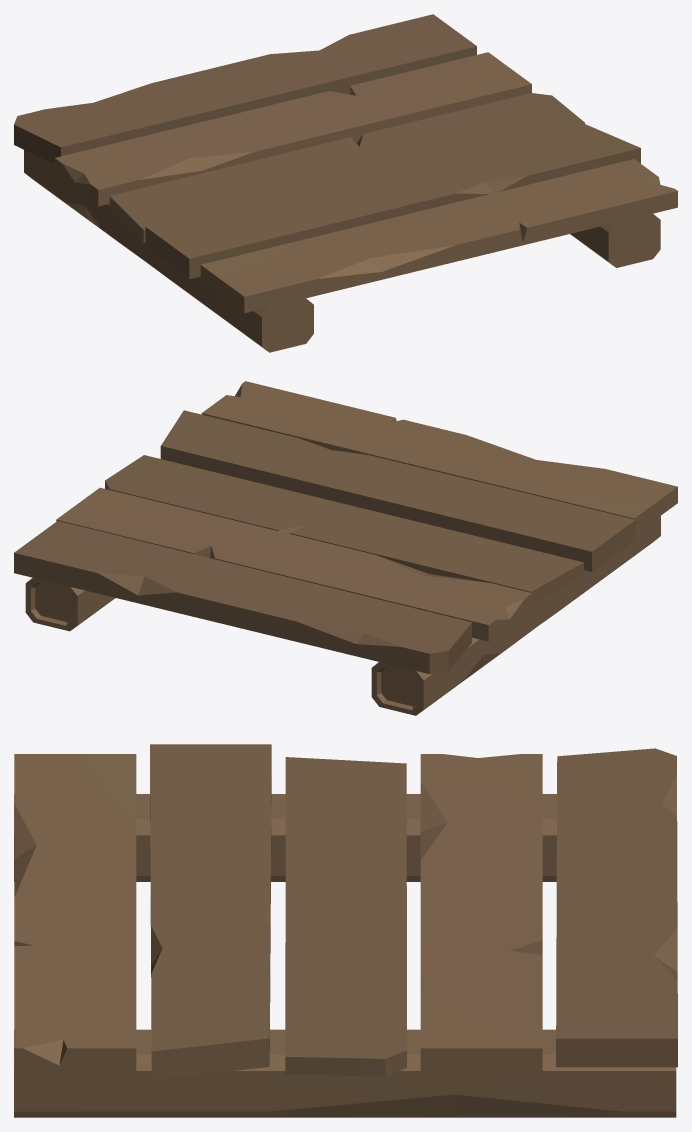
Rendered from Platform.fbx.
The picture shows the model from 3 angles, top to bottom: view 1: azimuth 30°, elevation 25°; view 2: azimuth 150°, elevation 25°; view 3: azimuth 270°, elevation 25°; orthographic projection. The views are drawn at different scales.
Parts seen in each view (by area): view 1: Platform; view 2: Platform; view 3: Platform.
Part boxes in pixels (bbox=[...]): Platform: bbox=[14, 14, 677, 352]; Platform: bbox=[14, 381, 677, 715]; Platform: bbox=[14, 744, 677, 1117].
Size of the model in its own units: 209 by 29.01 by 191.
